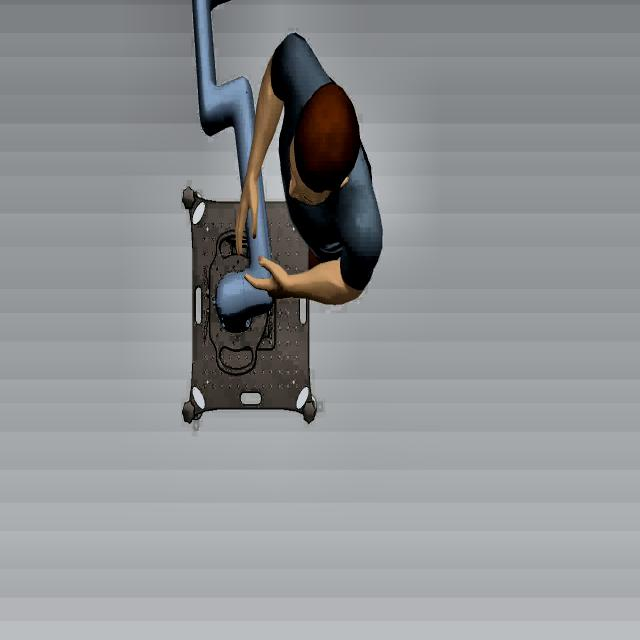robot: (180, 0, 289, 345)
